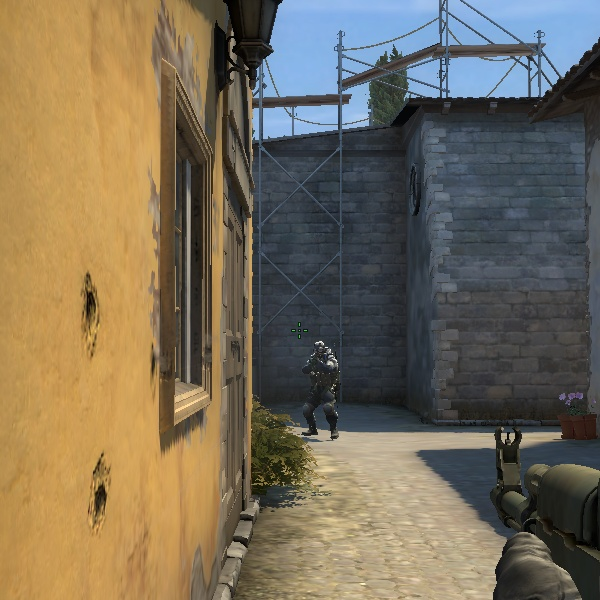ct_body: (292, 338, 347, 440)
